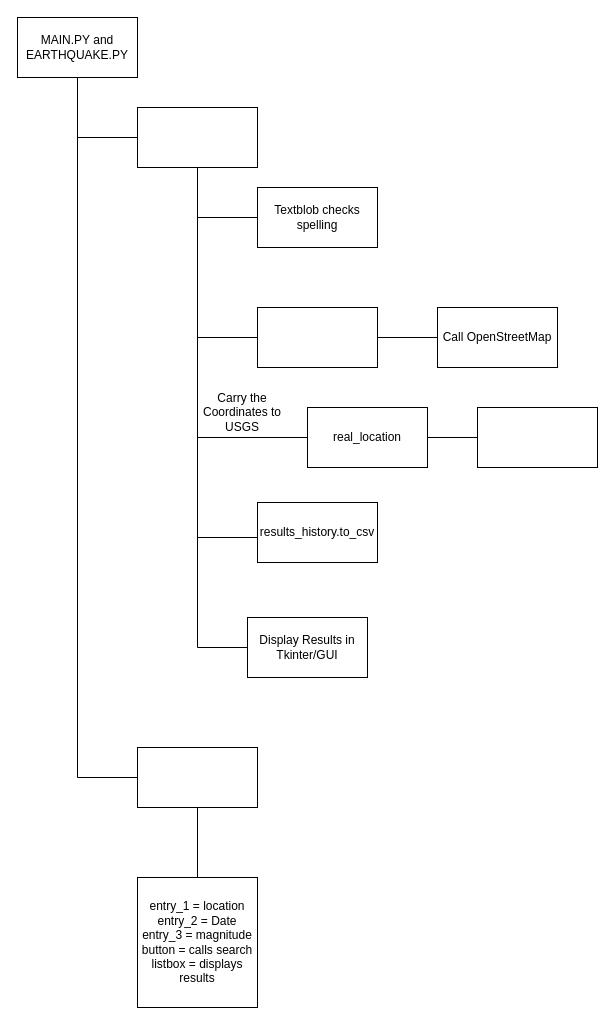
Some shapes in this 615 by 1025 pixel diagram are drawn without their labels. The shapes that lost their labels are listed below. From the top down, each one's box as (x1, y1, x2, y2) in pixels, then its label:
(136, 106, 258, 168): Call data search
(256, 306, 378, 368): coords_to_location
(476, 406, 598, 468): USGS (Earthquake API)
(136, 746, 258, 808): Tkinter Widgets
